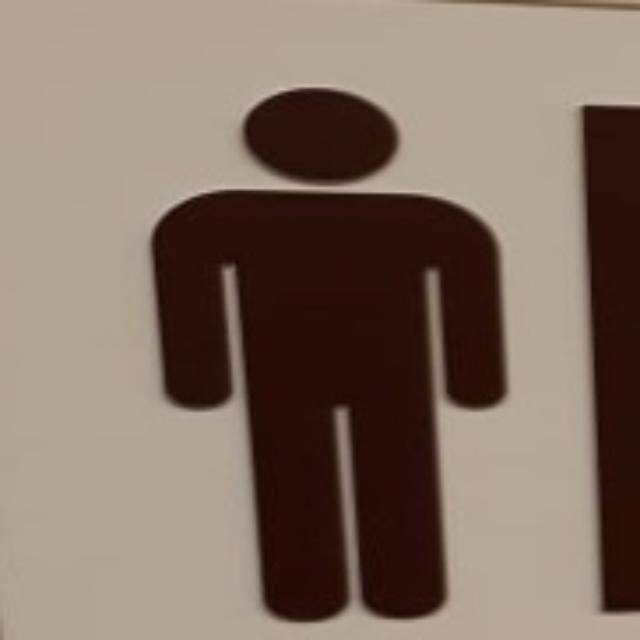mens_restroom: (155, 88, 503, 619)
